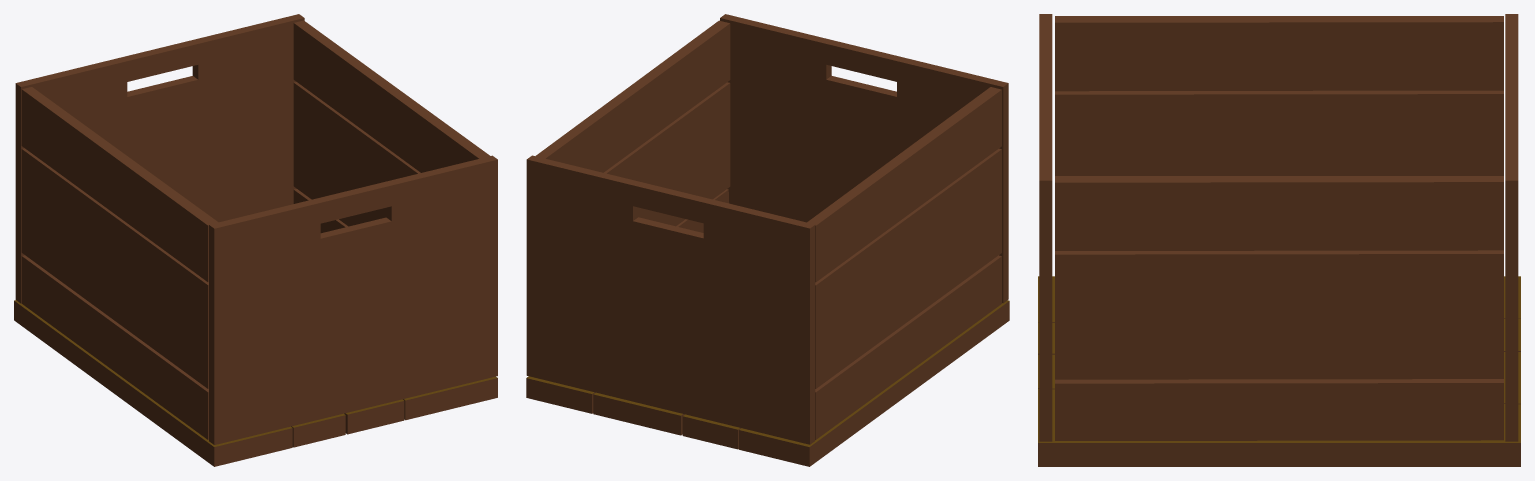
Rendered from crate02.gltf.
3 renders of one model, left to right at view 1: azimuth 30°, elevation 25°; view 2: azimuth 150°, elevation 25°; view 3: azimuth 270°, elevation 25°, orthographic. The views are drawn at different scales.
Parts seen in each view (by area): view 1: Cube.005; view 2: Cube.005; view 3: Cube.005.
Part boxes in pixels (box(x1,y1,x2,y2)): Cube.005: box(14, 14, 497, 466); Cube.005: box(526, 14, 1009, 466); Cube.005: box(1038, 14, 1520, 466).
Size of the model in its own units: 0.3011 by 0.2408 by 0.3677.
Materials: 1 (1 with a texture image).
